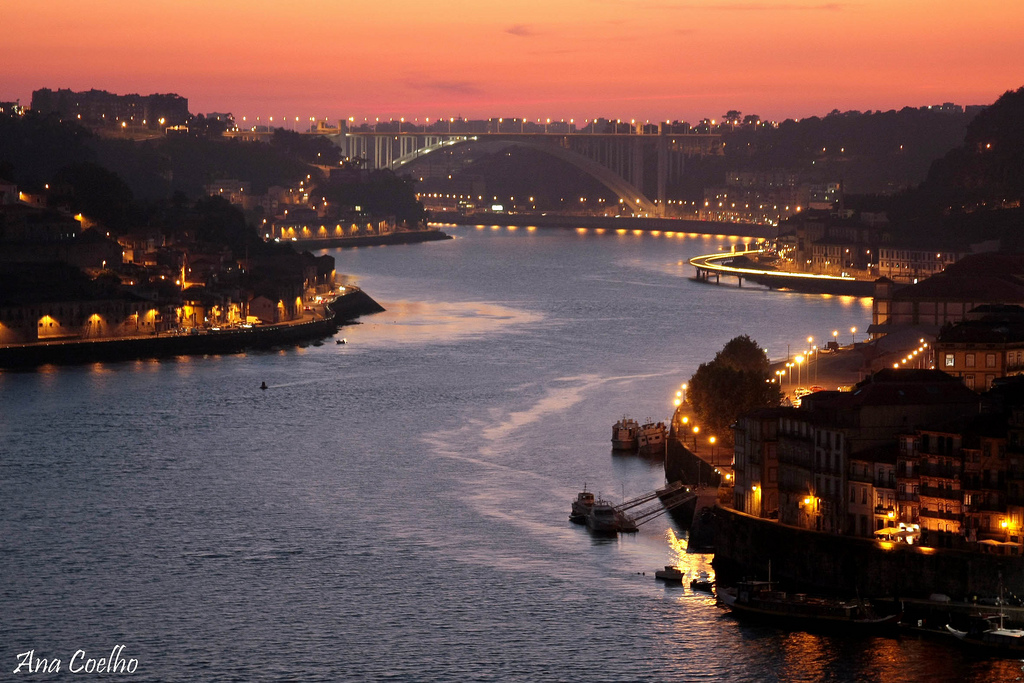arrabida: (297, 119, 743, 220)
